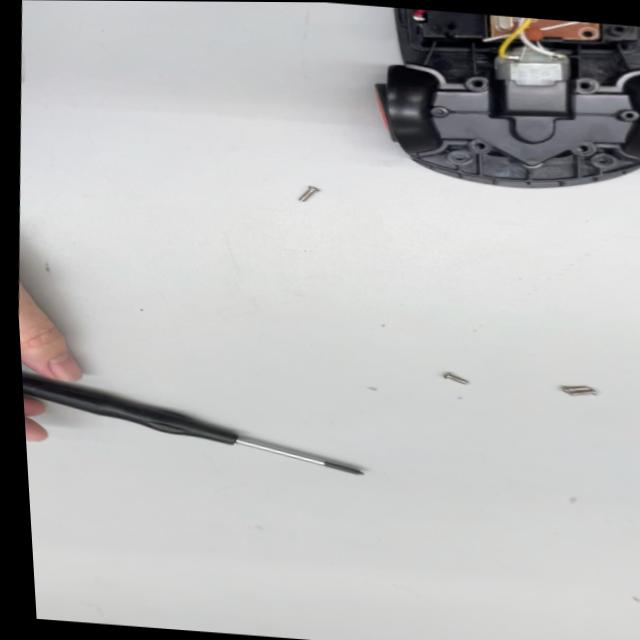screw: (284, 182, 327, 206), (431, 370, 476, 390), (561, 380, 601, 402)
screw_driver: (22, 378, 372, 465)
